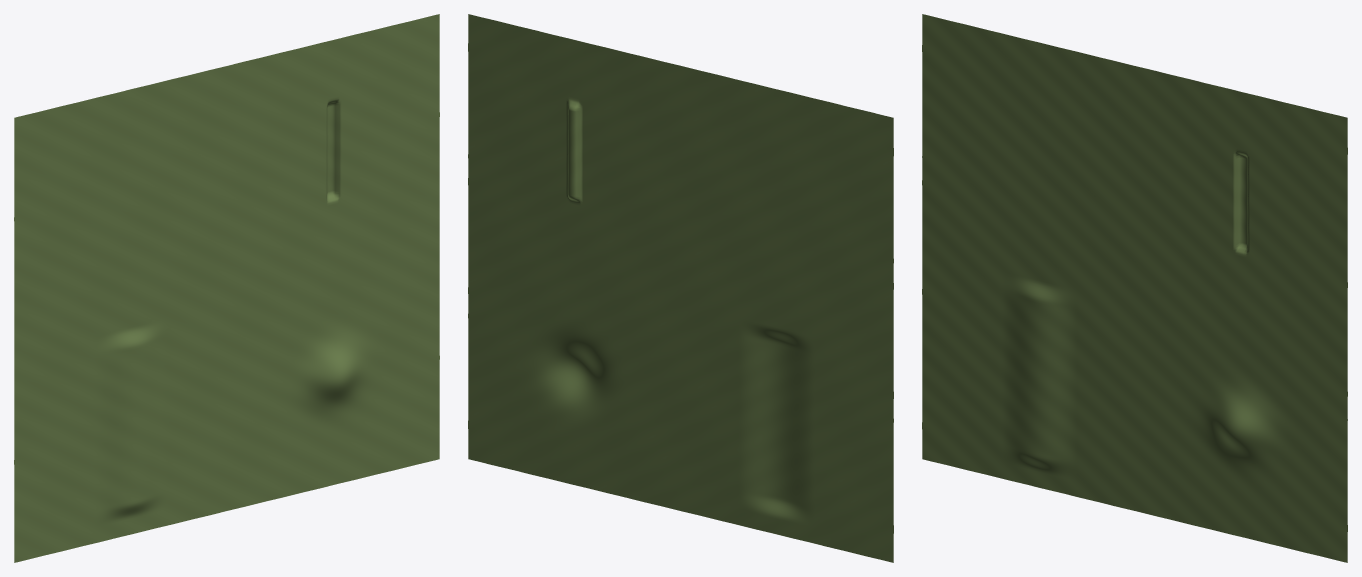
Rendered from terrain.obj.
3 renders of one model, left to right at view 1: azimuth 30°, elevation 25°; view 2: azimuth 150°, elevation 25°; view 3: azimuth 330°, elevation 25°, orthographic.
Bounding box in the file's own units: 80 × 80 × 3.53.
